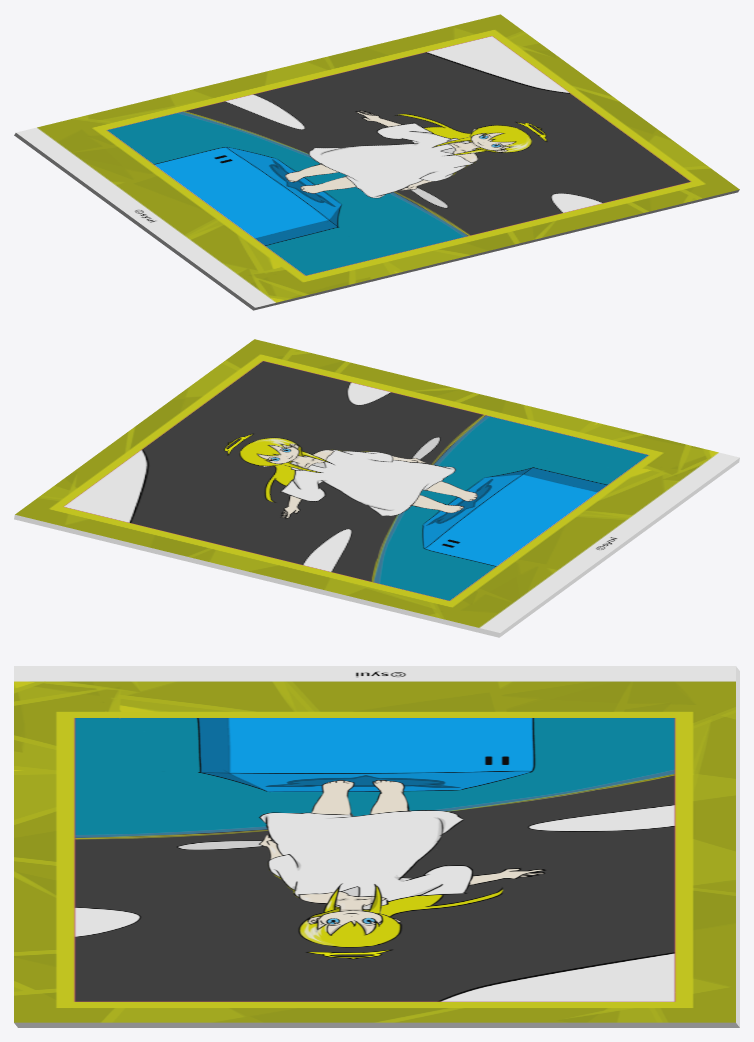
The model's file is card_13.glb.
3 views of the same model, one above another, from view 1: azimuth 30°, elevation 25°; view 2: azimuth 150°, elevation 25°; view 3: azimuth 270°, elevation 25° (orthographic). The views are drawn at different scales.
Visible parts, largest first — view 1: Object_2; view 2: Object_2; view 3: Object_2.
Boxes of the visible parts, x1=… form: Object_2: x1=14, y1=14, x2=739, y2=310; Object_2: x1=14, y1=339, x2=739, y2=637; Object_2: x1=14, y1=666, x2=739, y2=1027.
Size of the model in its own units: 5.96 by 0.0425 by 5.12.
Materials: 1 (1 with a texture image).
